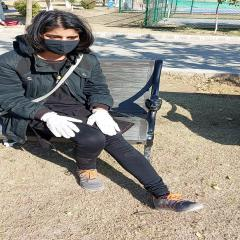gloved: (43, 112, 81, 138), (88, 109, 120, 136)
